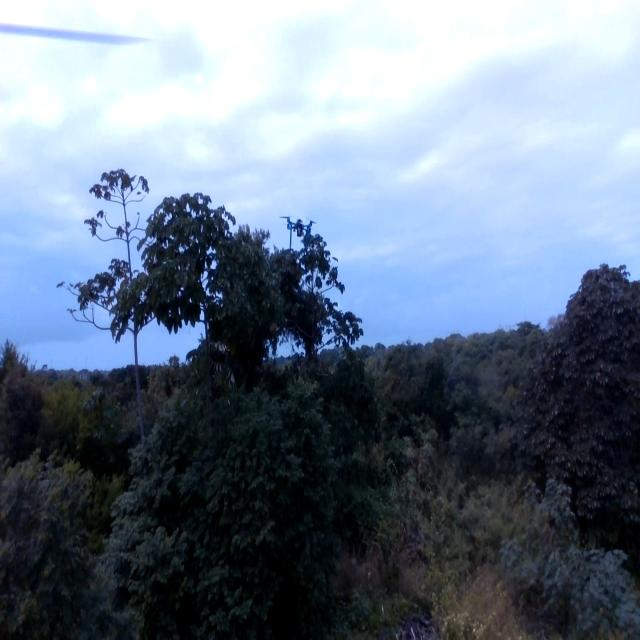-uav-: (279, 212, 325, 256)
